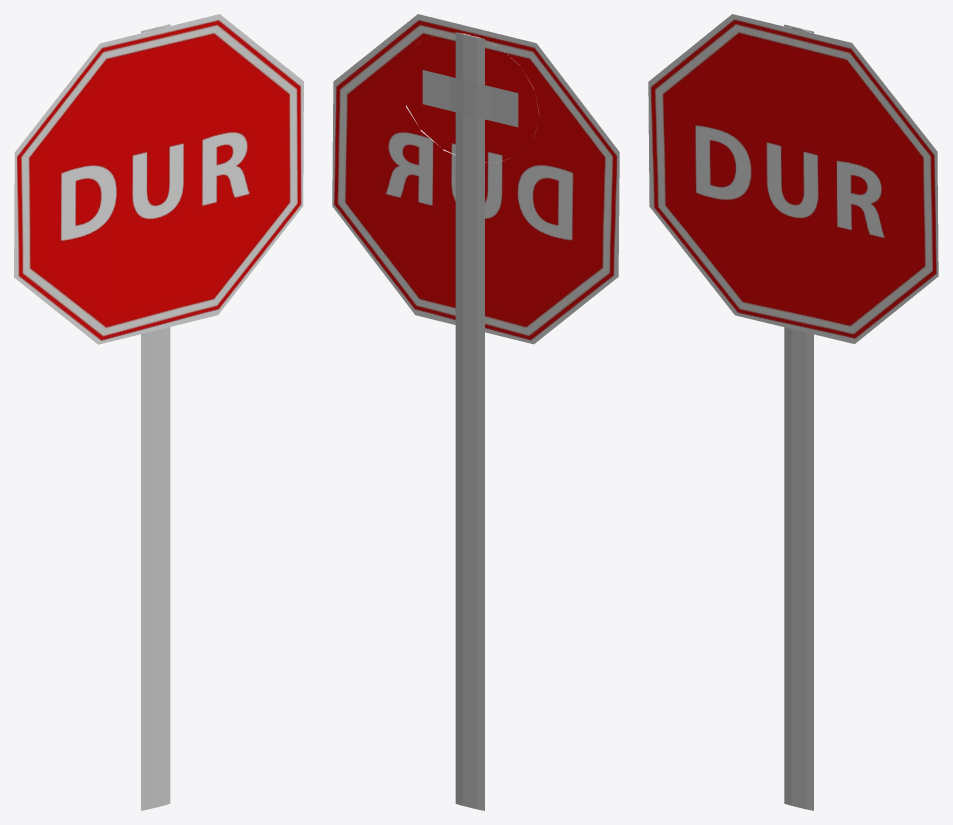
The model's file is dur.dae.
3 renders of one model, left to right at view 1: azimuth 30°, elevation 25°; view 2: azimuth 150°, elevation 25°; view 3: azimuth 330°, elevation 25°, orthographic.
Parts seen in each view (by area): view 1: Cylinder, Sign_Circle.005; view 2: Cylinder, Sign_Circle.005; view 3: Cylinder, Sign_Circle.005.
Part boxes in pixels (bbox=[...]): Cylinder: bbox=[14, 14, 303, 344]; Sign_Circle.005: bbox=[141, 24, 170, 810]; Cylinder: bbox=[332, 14, 619, 344]; Sign_Circle.005: bbox=[406, 32, 539, 810]; Cylinder: bbox=[648, 14, 938, 343]; Sign_Circle.005: bbox=[784, 24, 813, 810].
Bounding box in the file's own units: 0.8763 × 0.0313 × 2.27.
3 materials, 1 textured.
